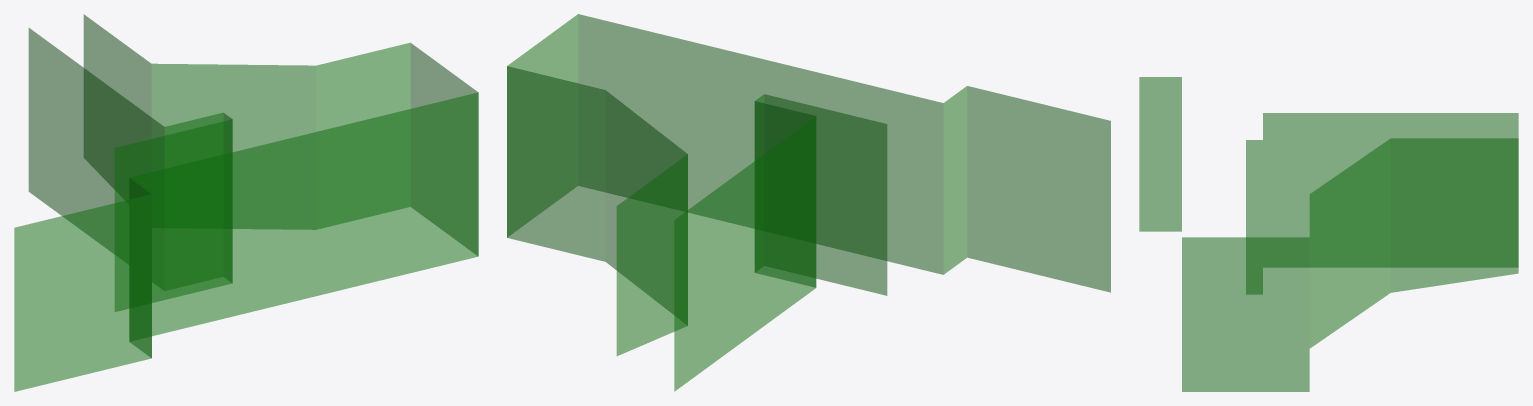
The model's file is D09_wall01.obj.
3 renders of one model, left to right at view 1: azimuth 30°, elevation 25°; view 2: azimuth 150°, elevation 25°; view 3: azimuth 270°, elevation 25°, orthographic. The views are drawn at different scales.
Bounding box in the file's own units: 124 × 40 × 89.
